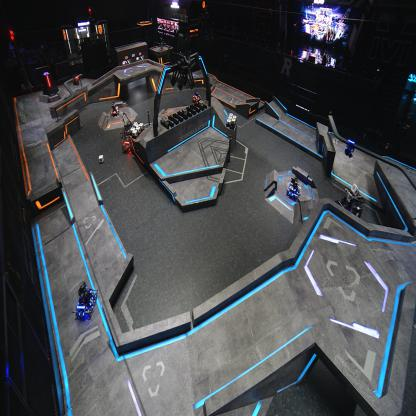car: (332, 184, 364, 224), (72, 281, 98, 321), (121, 118, 136, 152), (286, 176, 300, 201), (109, 100, 119, 118), (192, 88, 201, 103)
